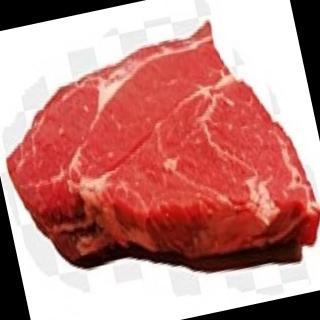Daging Sapi: (1, 11, 320, 317)
